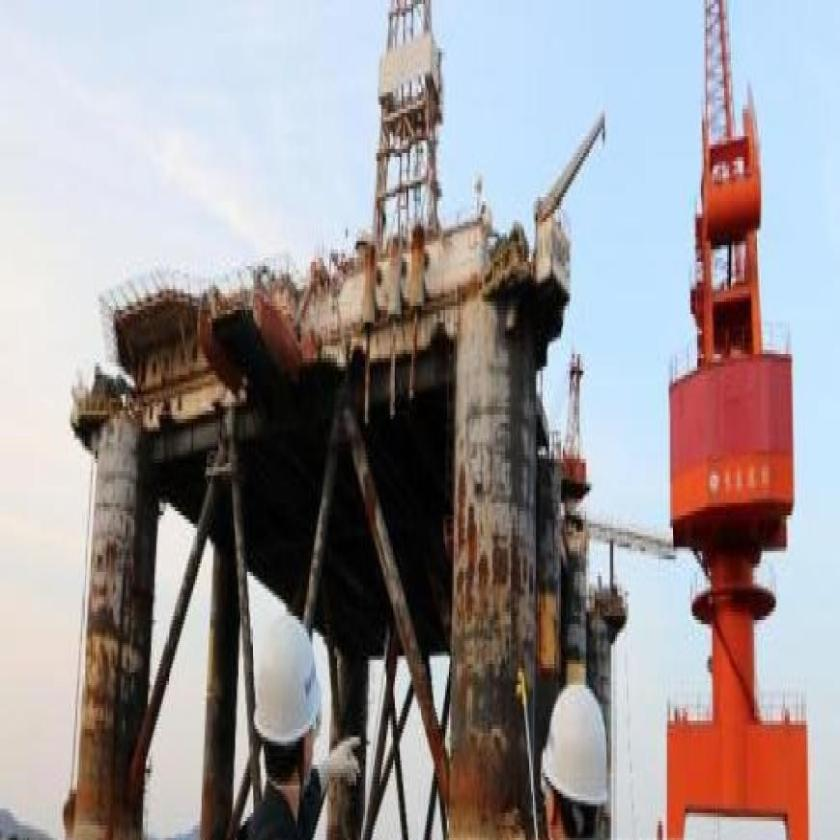Con_casco: (250, 610, 328, 796), (538, 681, 610, 840)
